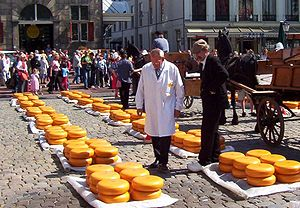cheese: (84, 159, 161, 200)
